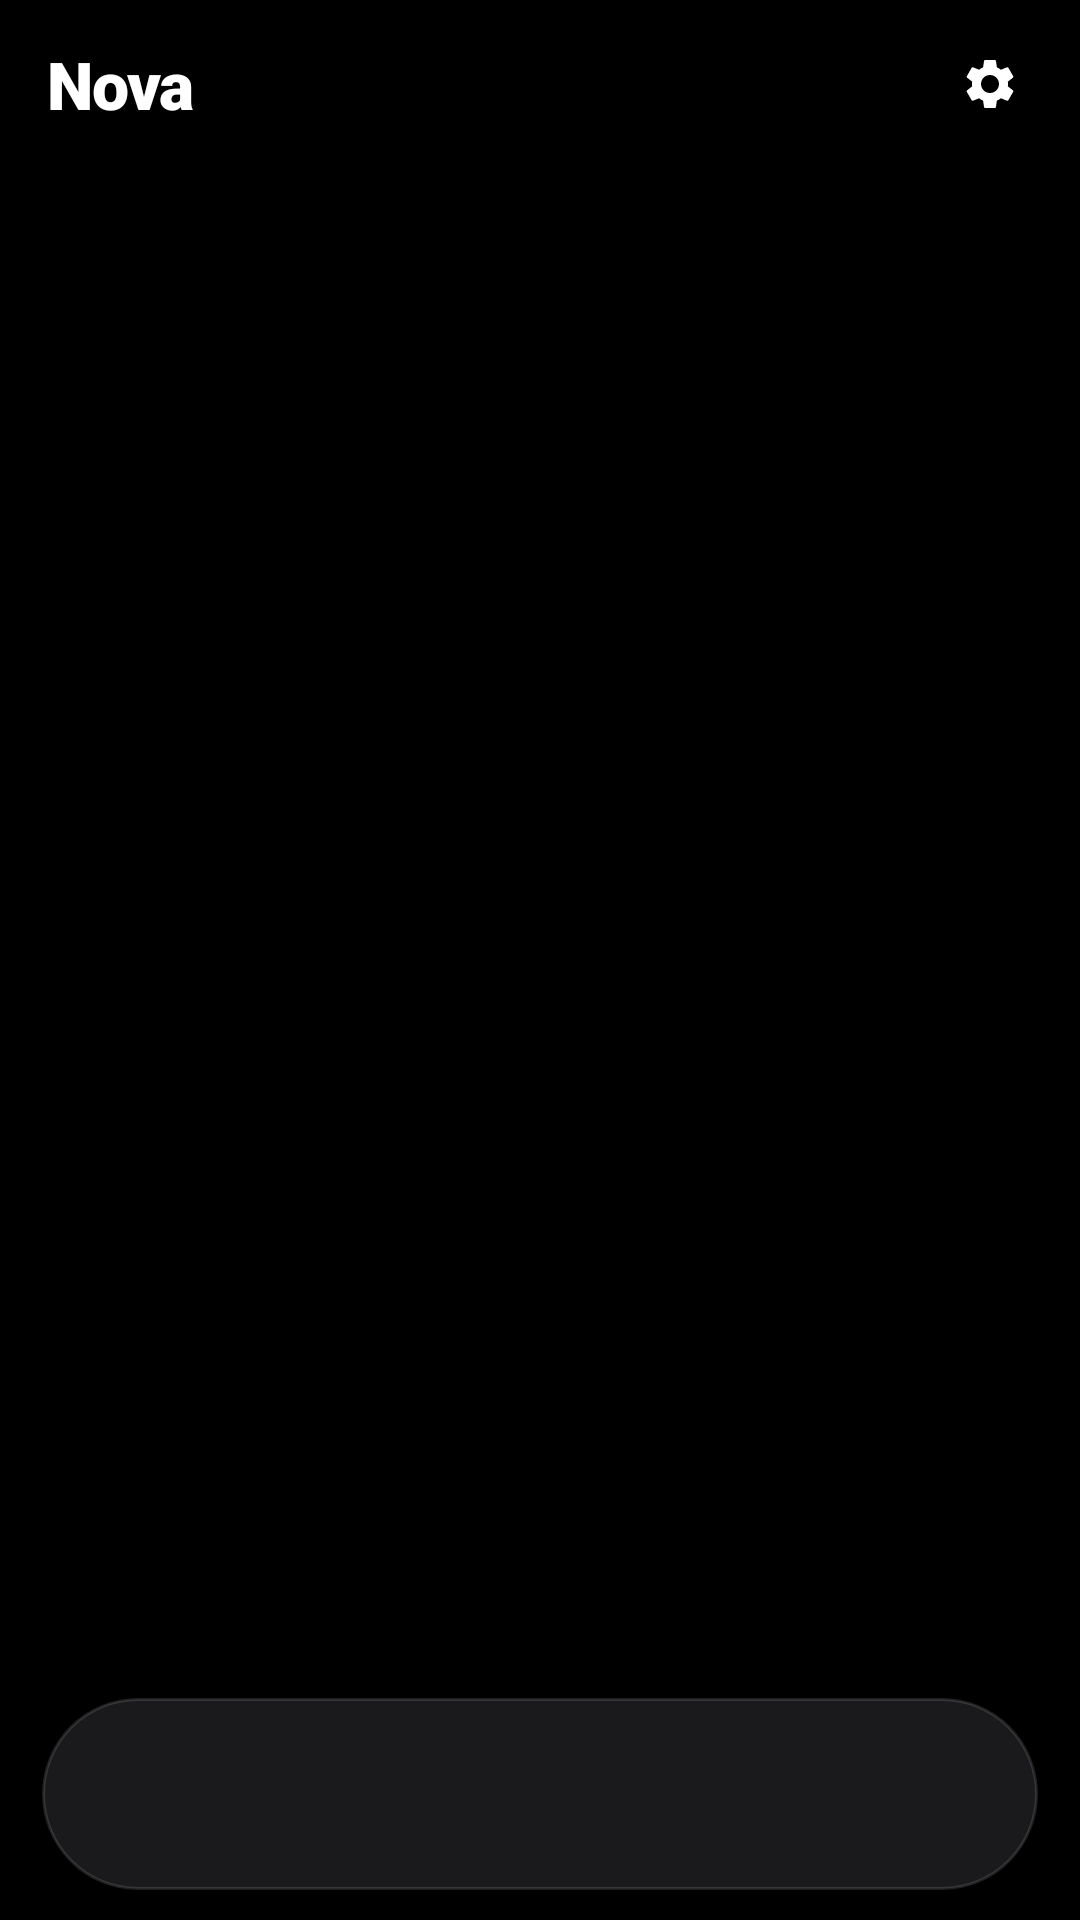

Named icons in this screenshot (1080px×1920px) and their bounding boxes, (x1, y1, x2, y2):
Settings: (966, 60, 1014, 108)
